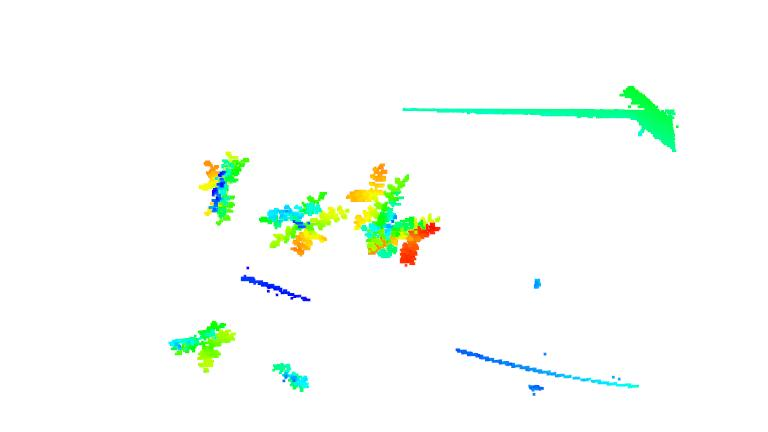chickpea: (257, 192, 349, 255), (341, 160, 411, 231), (167, 318, 241, 377), (197, 150, 252, 228), (367, 212, 445, 264), (269, 362, 311, 394)
